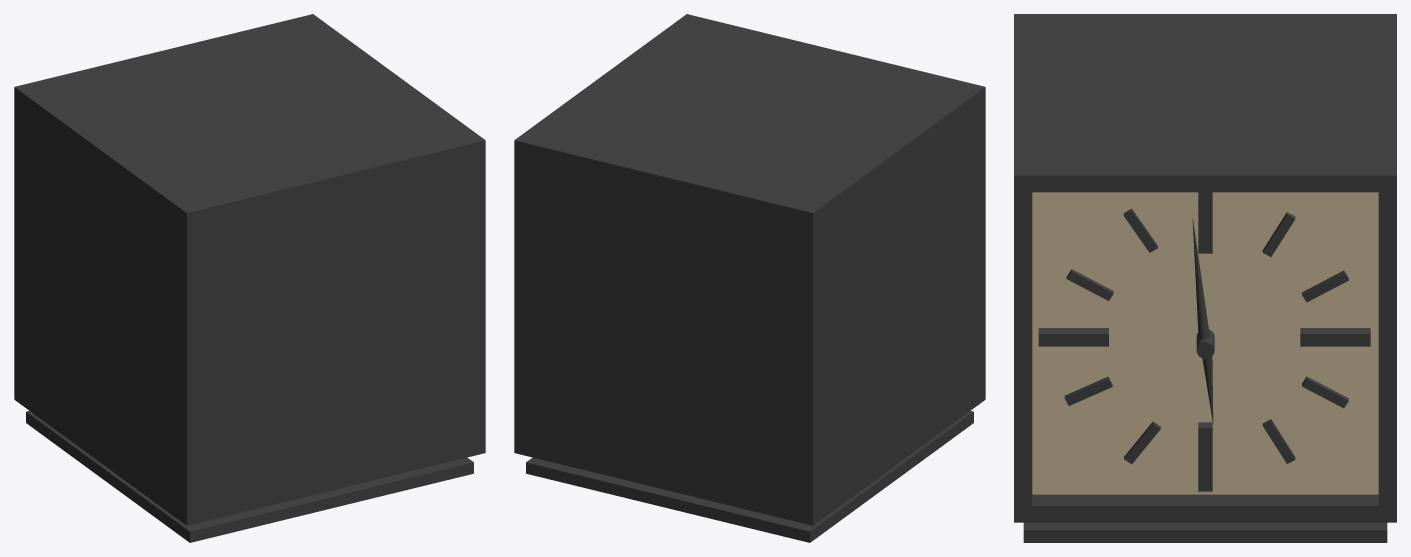
3 views of the same model, side by side, from view 1: azimuth 30°, elevation 25°; view 2: azimuth 150°, elevation 25°; view 3: azimuth 270°, elevation 25° (orthographic). The views are drawn at different scales.
Parts seen in each view (by area): view 1: Cube; view 2: Cube; view 3: Cube, Cube.001, Cube.004, Cube.002, Cube.003, Cone, Cube.011, Cube.005, Cube.006, Cube.007, Cube.012, Cube.010 (+2 smaller).
Boxes of the visible parts, x1,y1,x2,y2 form: Cube: (14, 14, 485, 542); Cube: (514, 14, 985, 542); Cube: (1014, 14, 1396, 542); Cube.001: (1300, 328, 1370, 346); Cube.004: (1038, 328, 1108, 346); Cube.002: (1198, 422, 1212, 491); Cube.003: (1198, 192, 1212, 253); Cone: (1192, 215, 1209, 339); Cube.011: (1064, 376, 1112, 405); Cube.005: (1066, 269, 1113, 300); Cube.006: (1302, 376, 1348, 408); Cube.007: (1302, 270, 1348, 302); Cube.012: (1124, 421, 1160, 464); Cube.010: (1123, 208, 1157, 252).
Size of the model in its own units: 201 by 214 by 200.
